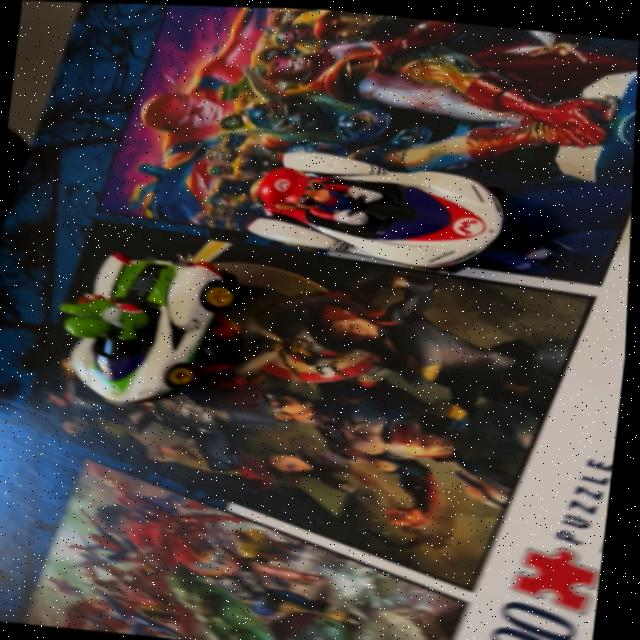mario: (224, 139, 532, 275)
yoshi: (31, 230, 256, 434)
